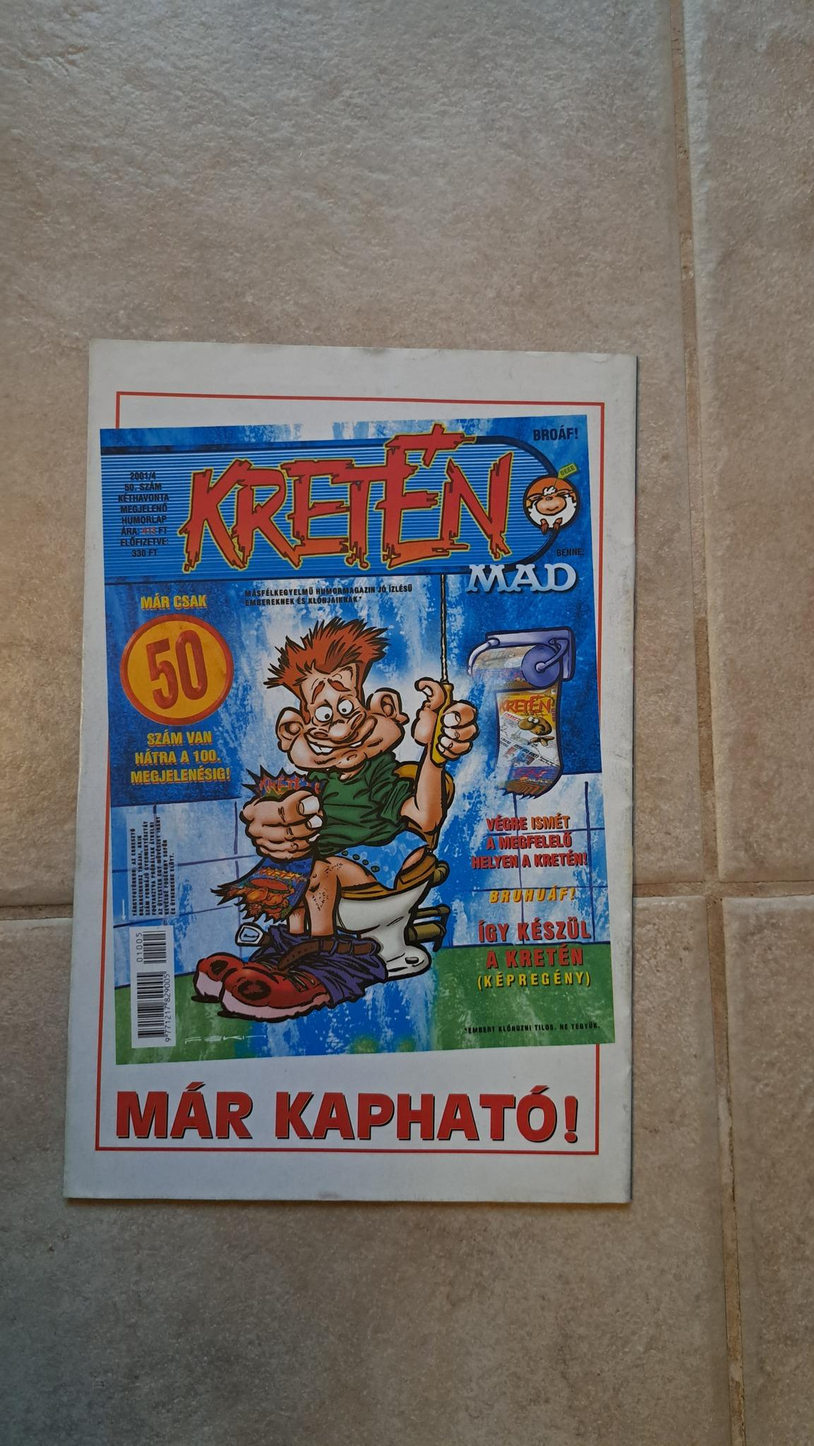comic: (66, 343, 650, 1208)
